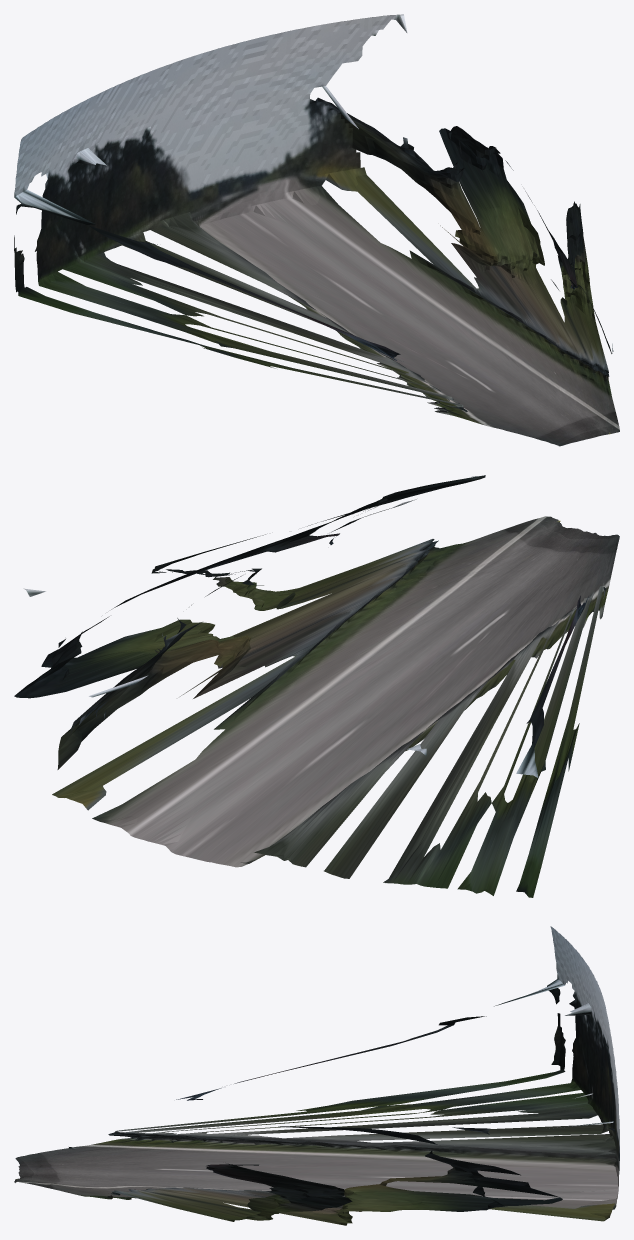
3 renders of one model, top to bottom at view 1: azimuth 30°, elevation 25°; view 2: azimuth 150°, elevation 25°; view 3: azimuth 270°, elevation 25°, orthographic. The views are drawn at different scales.
Visible parts, largest first — view 1: defaultobject; view 2: defaultobject; view 3: defaultobject.
Part boxes in pixels (x1,y1,x2,y2): defaultobject: (14, 14, 619, 446); defaultobject: (14, 475, 619, 897); defaultobject: (14, 926, 619, 1225).
Bounding box in the file's own units: 34.12 × 12.86 × 44.83.
1 material, 1 textured.
